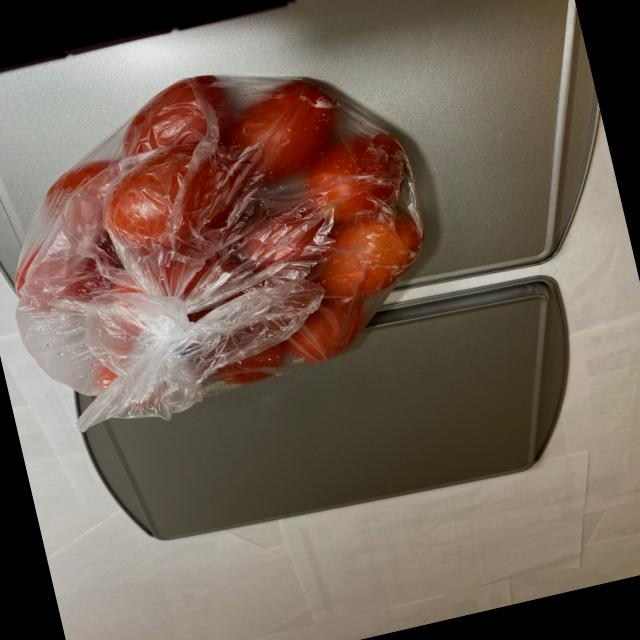tomato: (0, 39, 459, 434)
